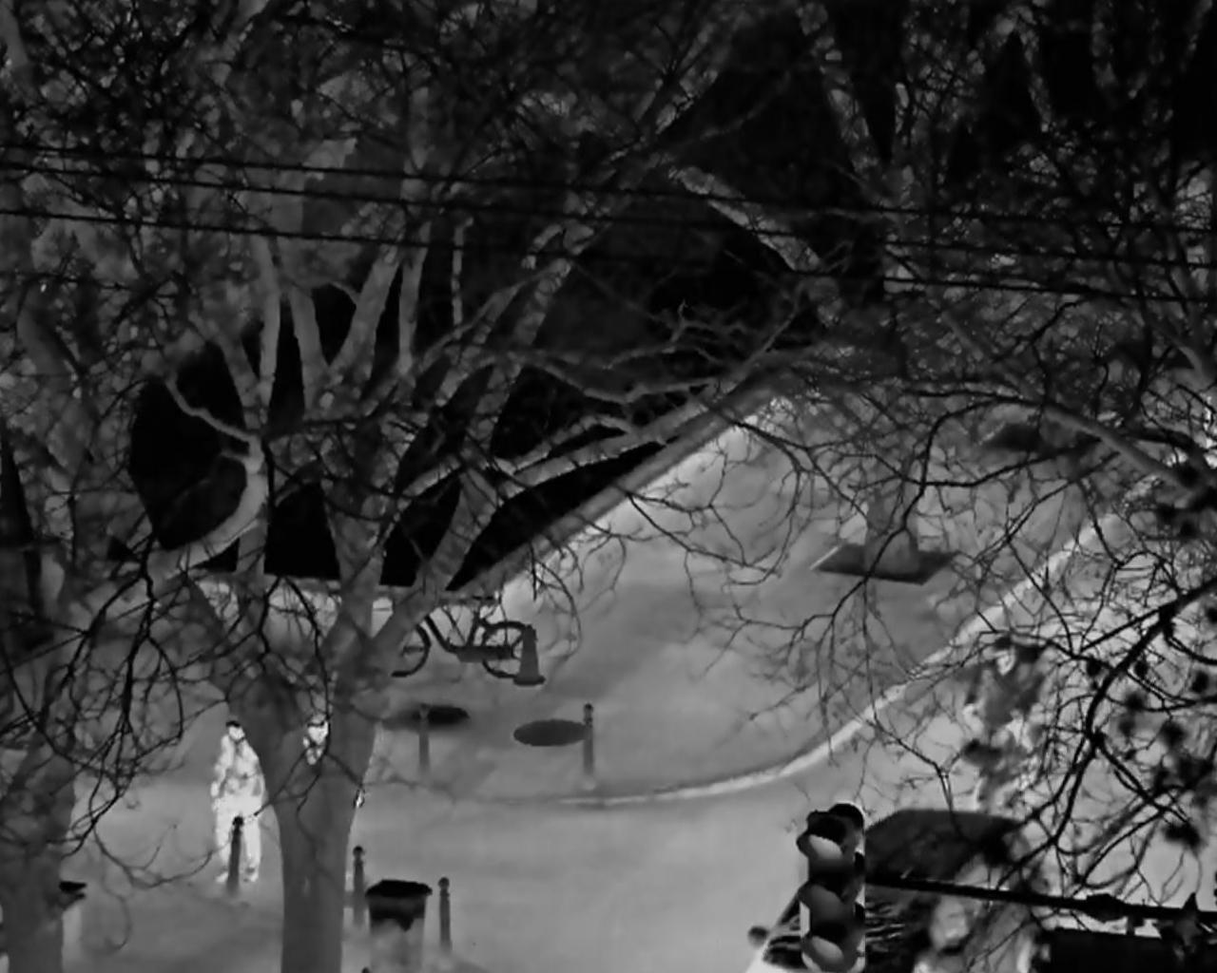person: (208, 717, 266, 884)
